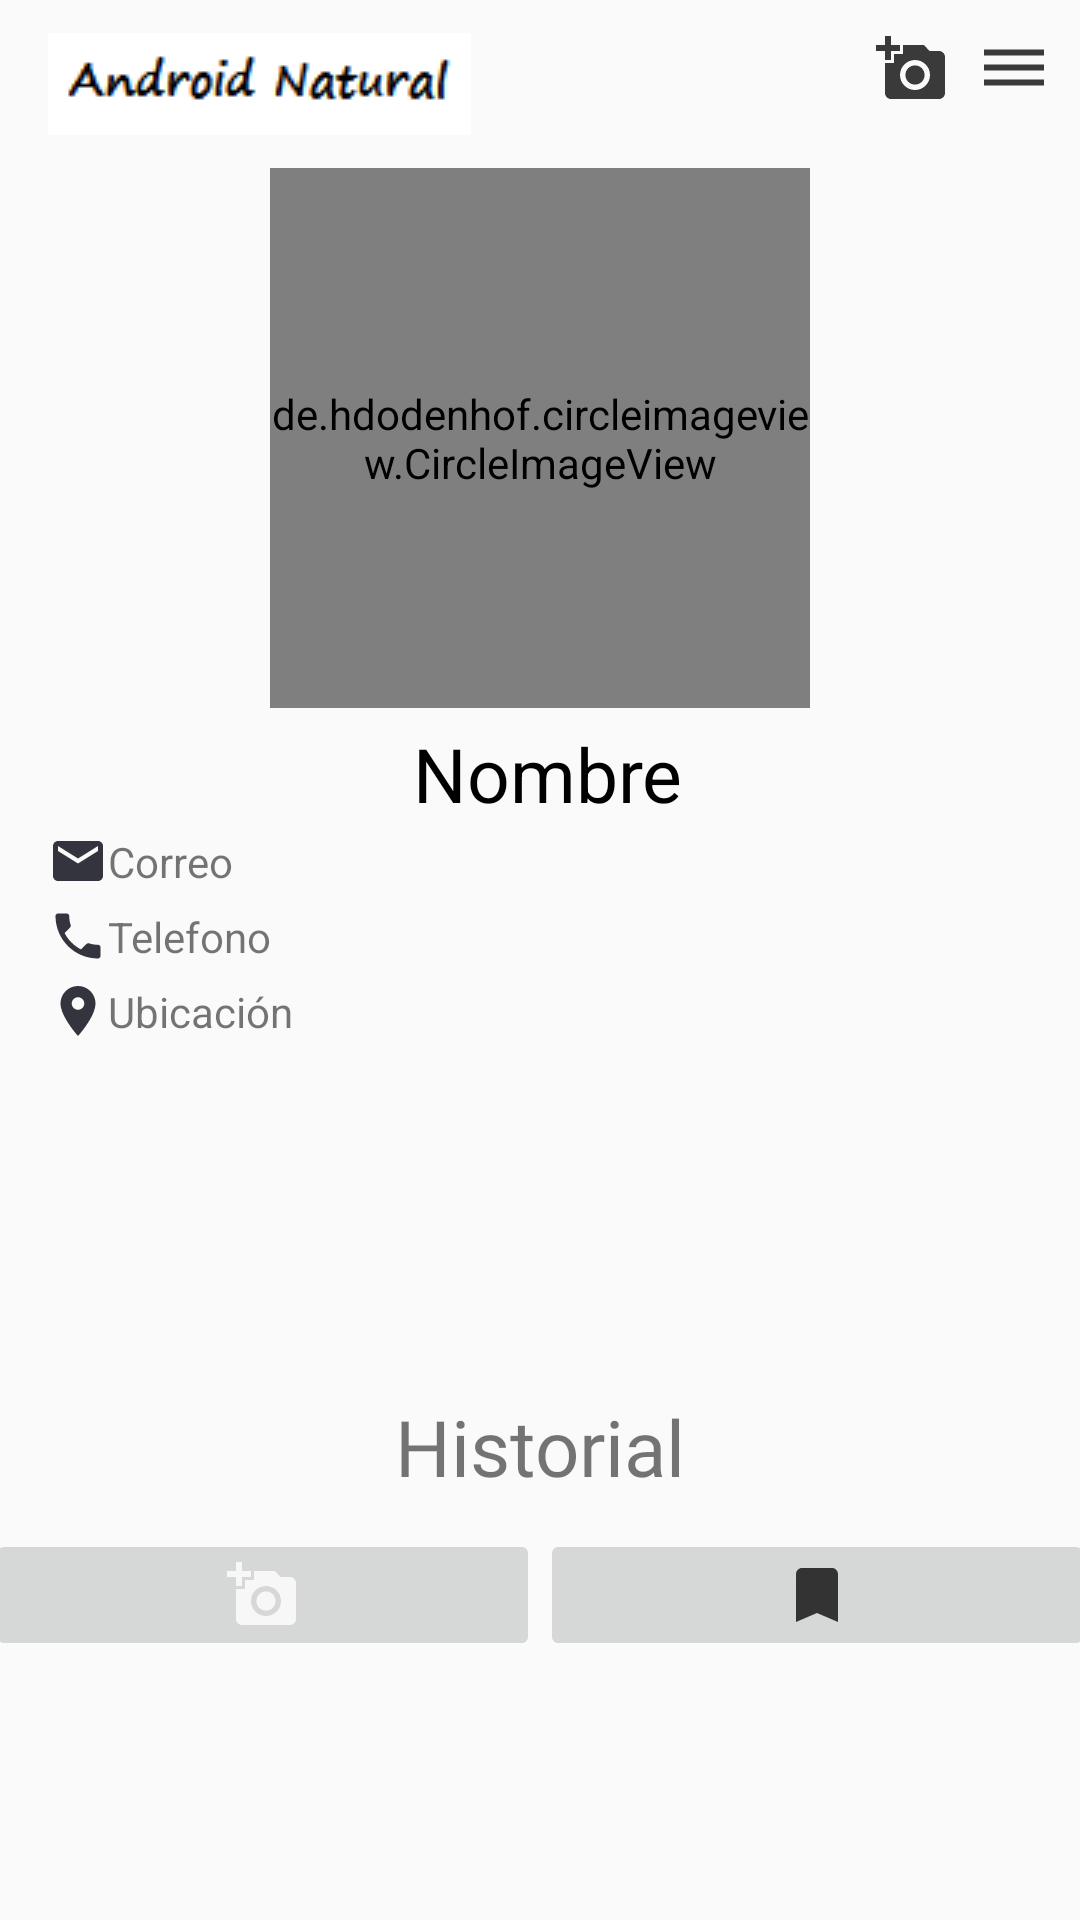

Locate icon controls on the screen. Image size 1080 x 1920, boxes as {"x1": x1, "y1": y1, "x2": x2, "y2": y2}.
addpost: {"x1": 876, "y1": 36, "x2": 945, "y2": 99}
mas: {"x1": 984, "y1": 49, "x2": 1044, "y2": 86}
ubicacion: {"x1": 60, "y1": 986, "x2": 96, "y2": 1036}
